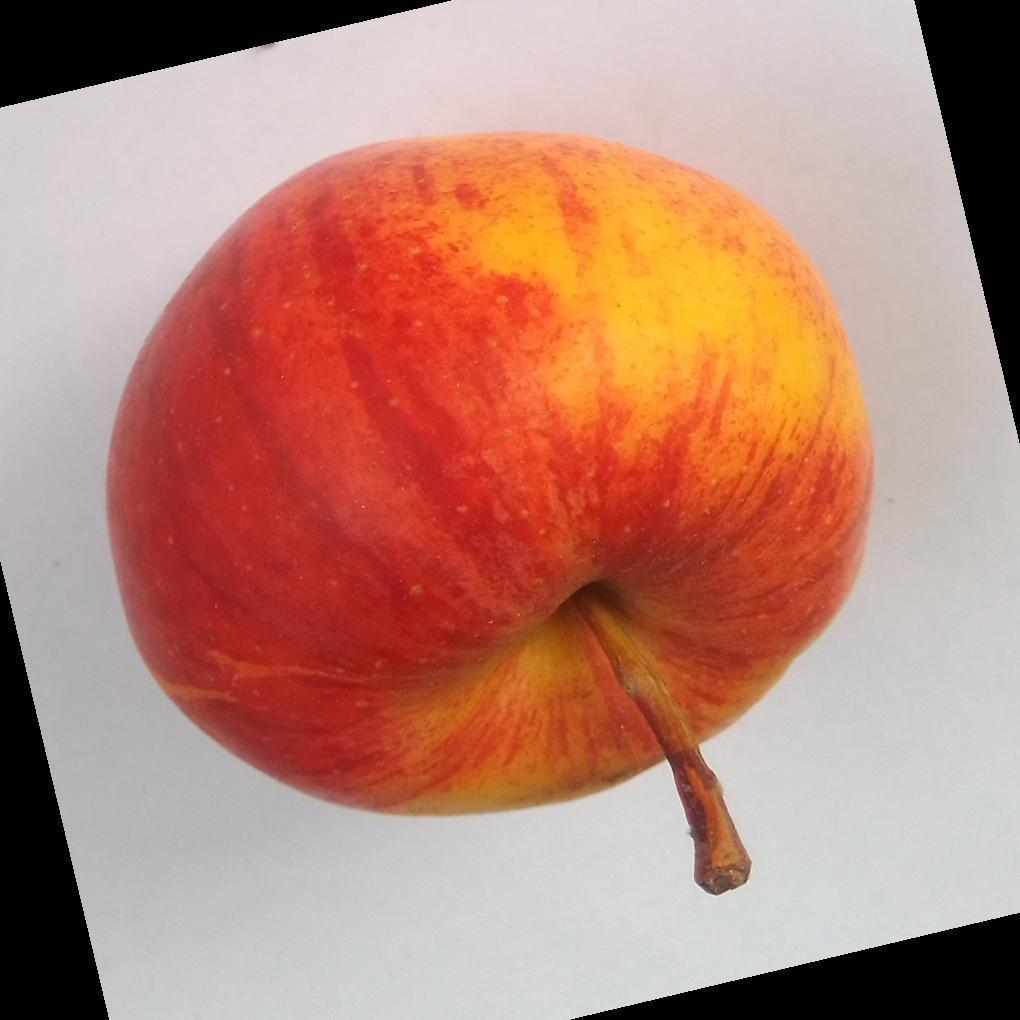FreshGuava: (102, 132, 878, 896)
